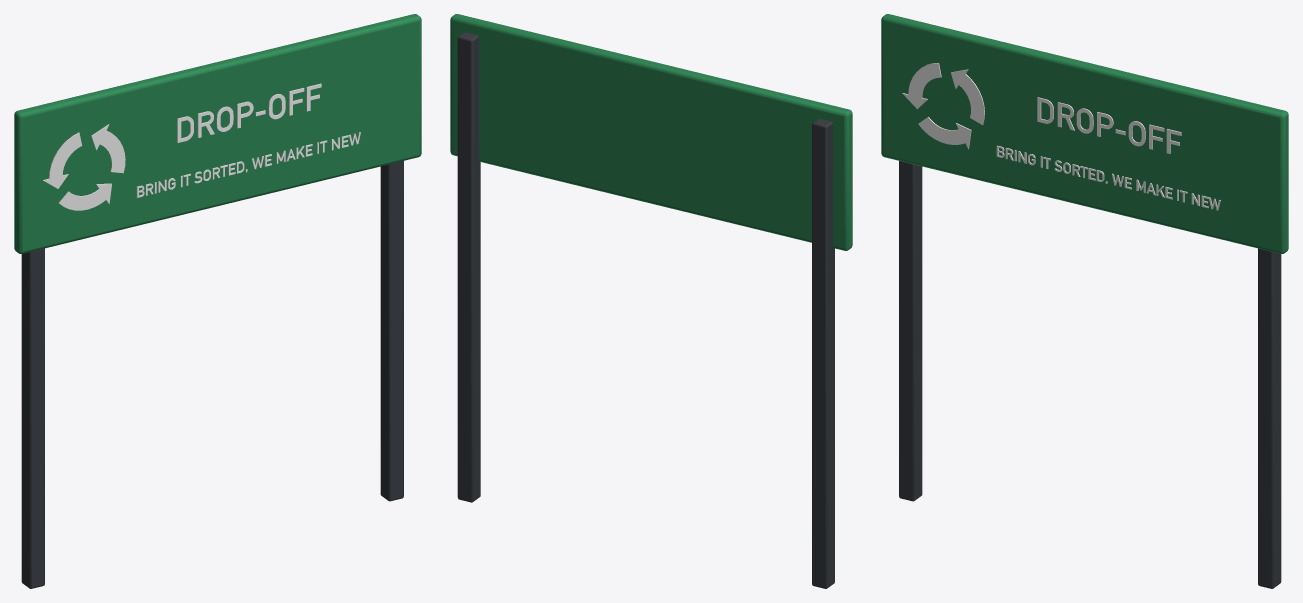
The model's file is sign_dropoff.fbx.
3 renders of one model, left to right at view 1: azimuth 30°, elevation 25°; view 2: azimuth 150°, elevation 25°; view 3: azimuth 330°, elevation 25°, orthographic.
Parts seen in each view (by area): view 1: sign_dropoff; view 2: sign_dropoff; view 3: sign_dropoff.
Part boxes in pixels (x1,y1,x2,y2): sign_dropoff: [14, 14, 421, 588]; sign_dropoff: [450, 14, 852, 588]; sign_dropoff: [881, 14, 1288, 588].
Bounding box in the file's own units: 1.8 × 2.05 × 0.106.
